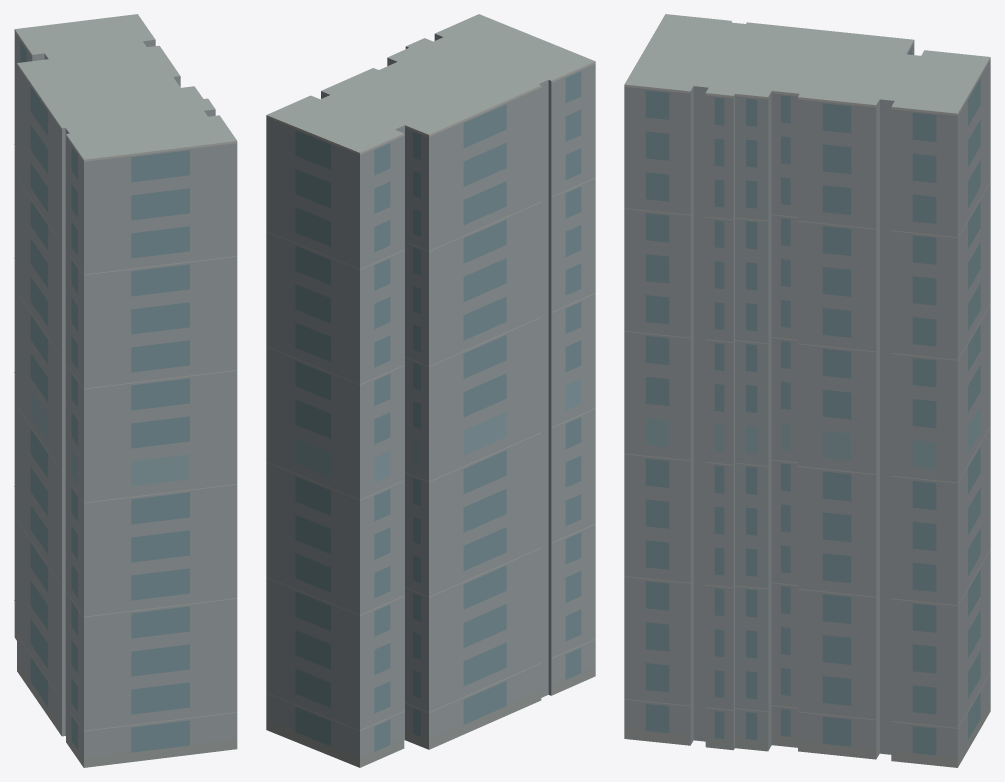
Rendered from survey-upis-32795110.glb.
The picture shows the model from 3 angles, left to right: view 1: azimuth 30°, elevation 25°; view 2: azimuth 150°, elevation 25°; view 3: azimuth 270°, elevation 25°; orthographic projection. The views are drawn at different scales.
Visible parts, largest first — view 1: survey-upis-32795110.tmp; view 2: survey-upis-32795110.tmp; view 3: survey-upis-32795110.tmp.
Part boxes in pixels (left/top/right/bottom): survey-upis-32795110.tmp: left=14, top=14, right=237, bottom=767; survey-upis-32795110.tmp: left=266, top=14, right=595, bottom=767; survey-upis-32795110.tmp: left=624, top=14, right=990, bottom=767.
Bounding box in the file's own units: 22.89 × 70 × 35.55.
